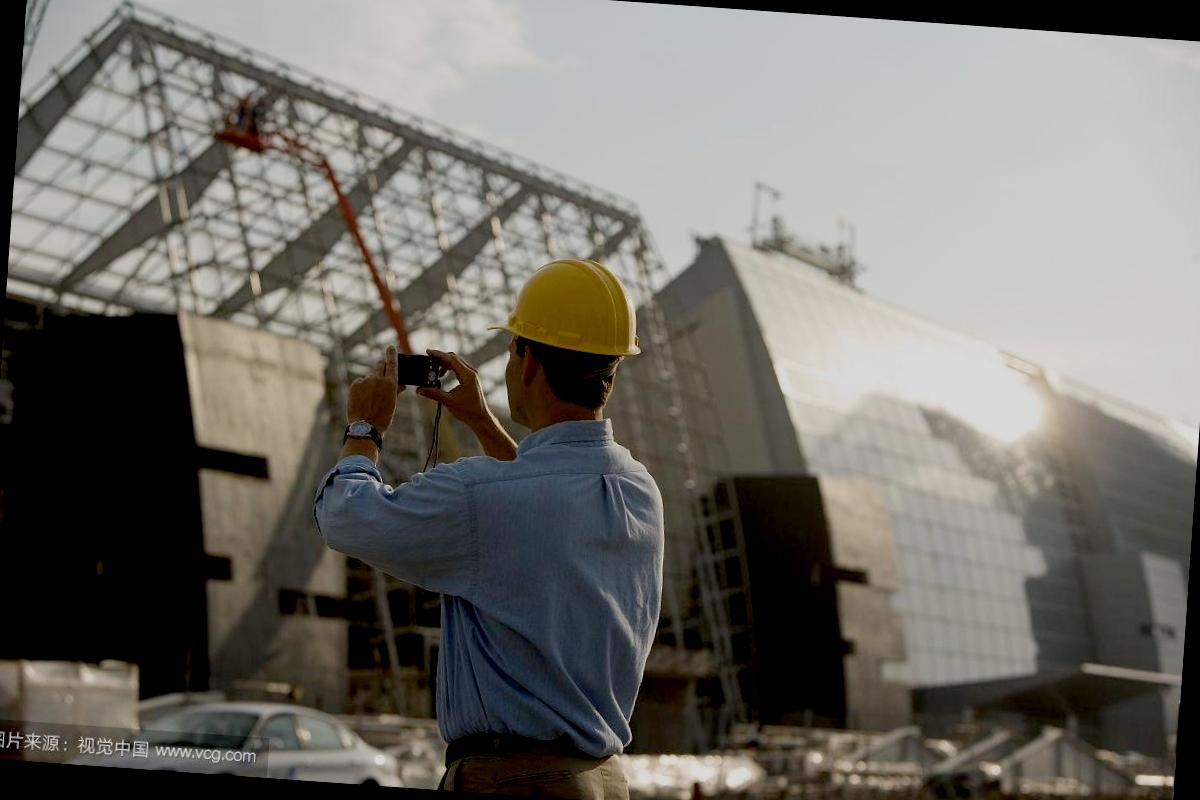helmet: (475, 234, 657, 378)
no_vest: (399, 389, 688, 772)
person: (359, 239, 708, 800)
